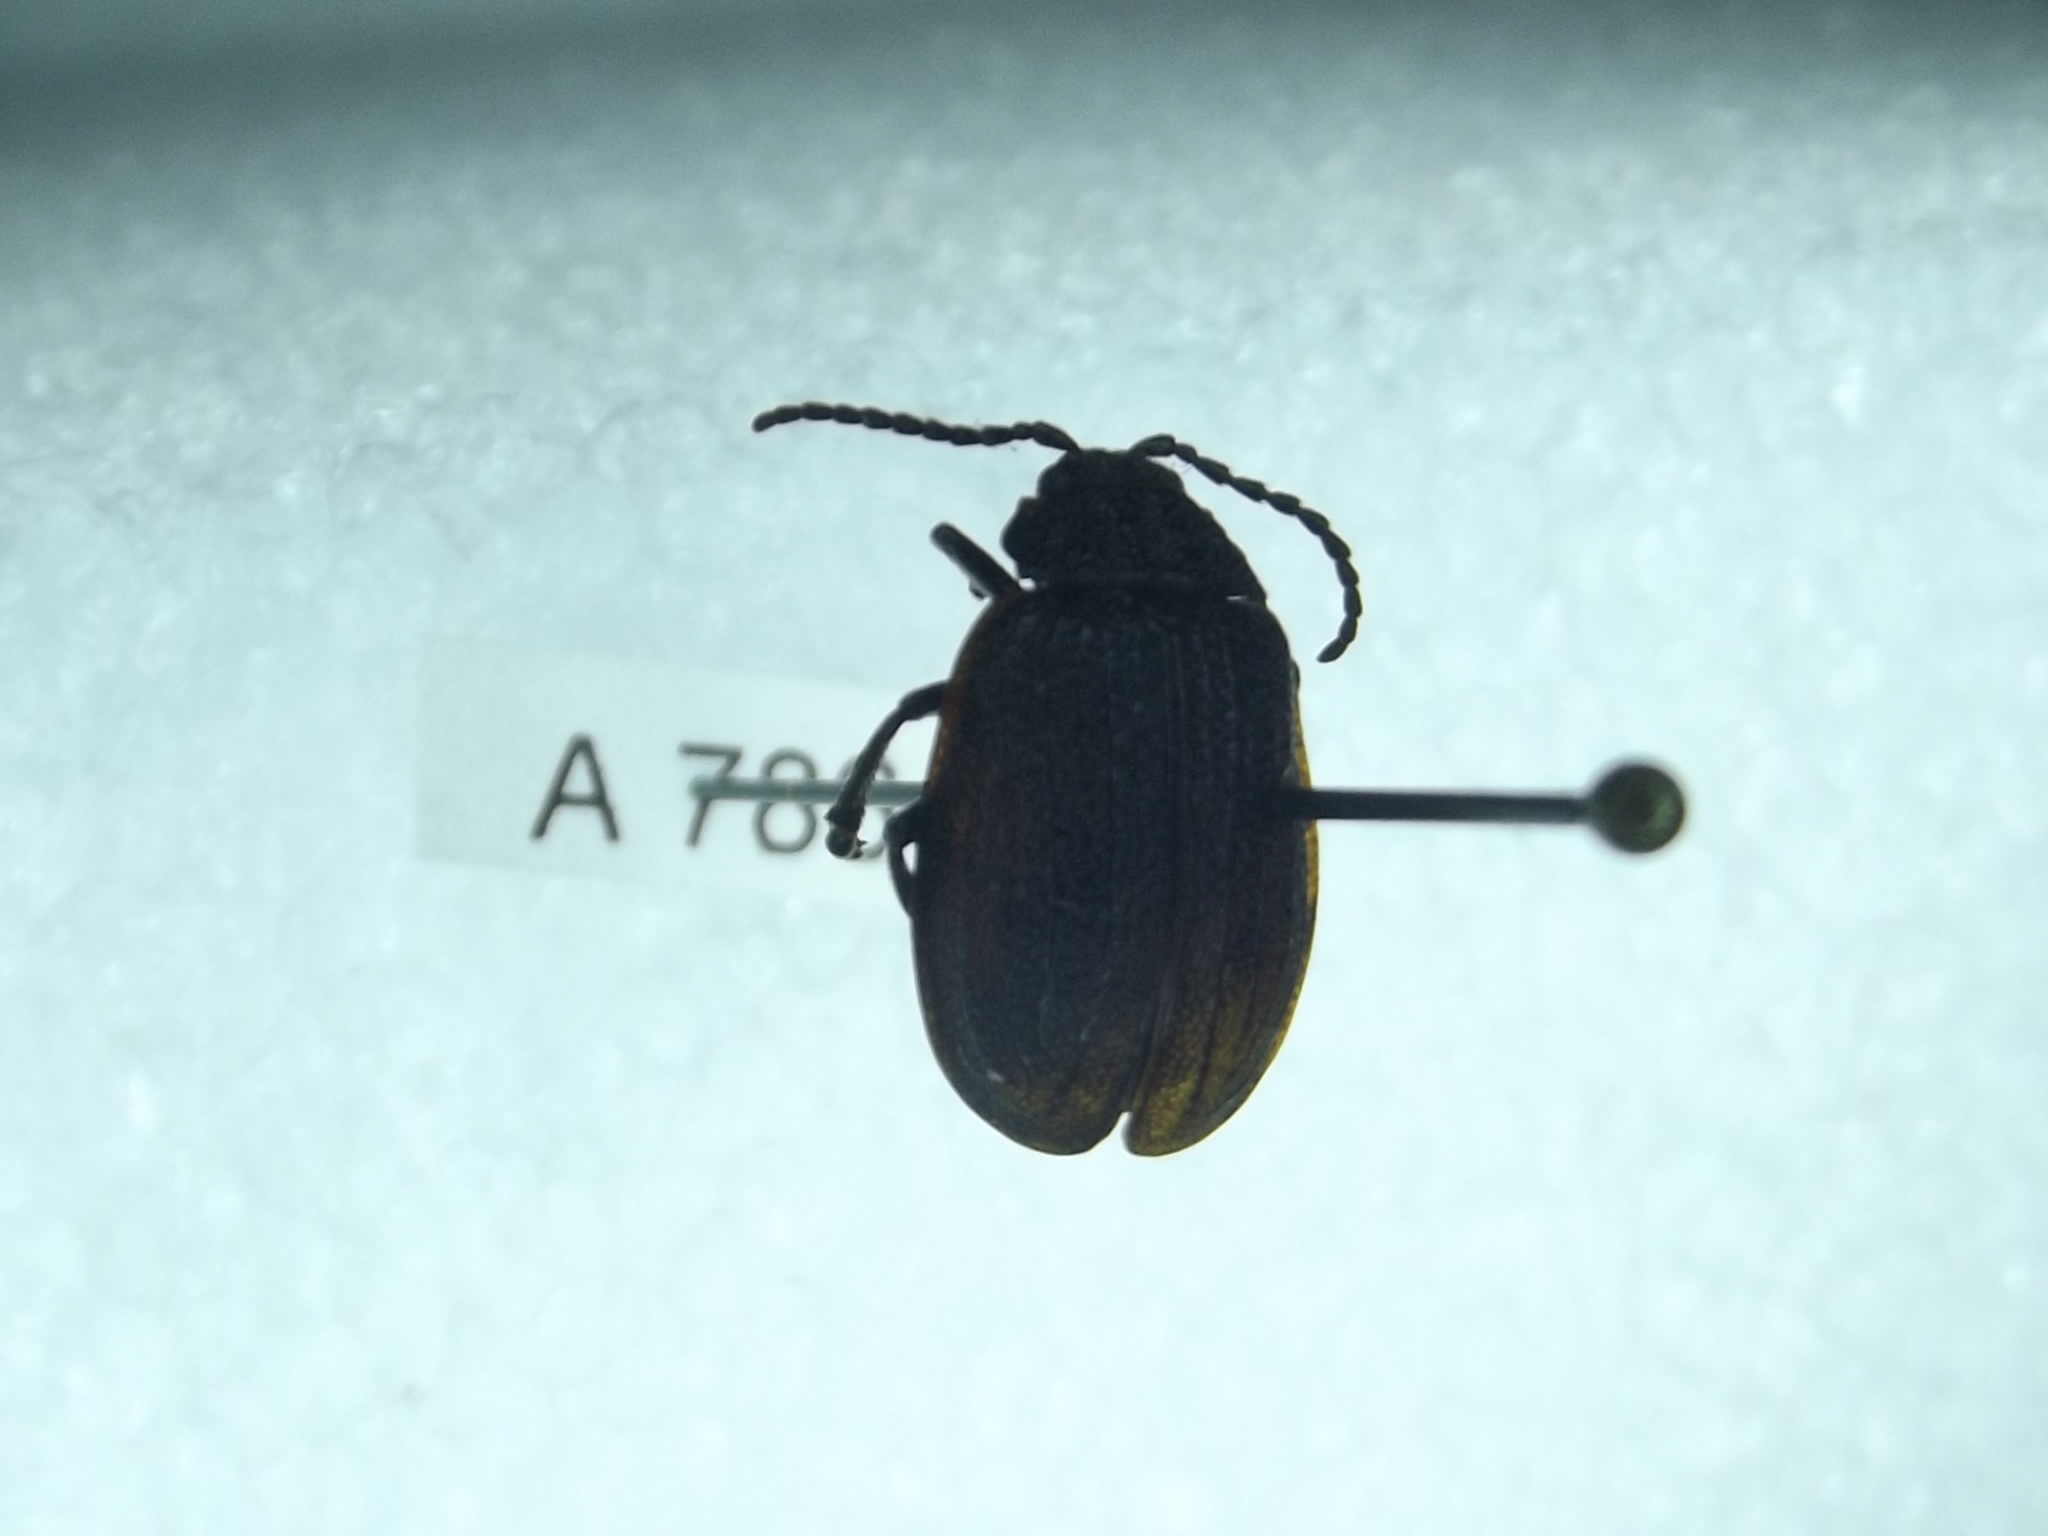Galeruca_tanaceti: (742, 382, 1367, 1162)
